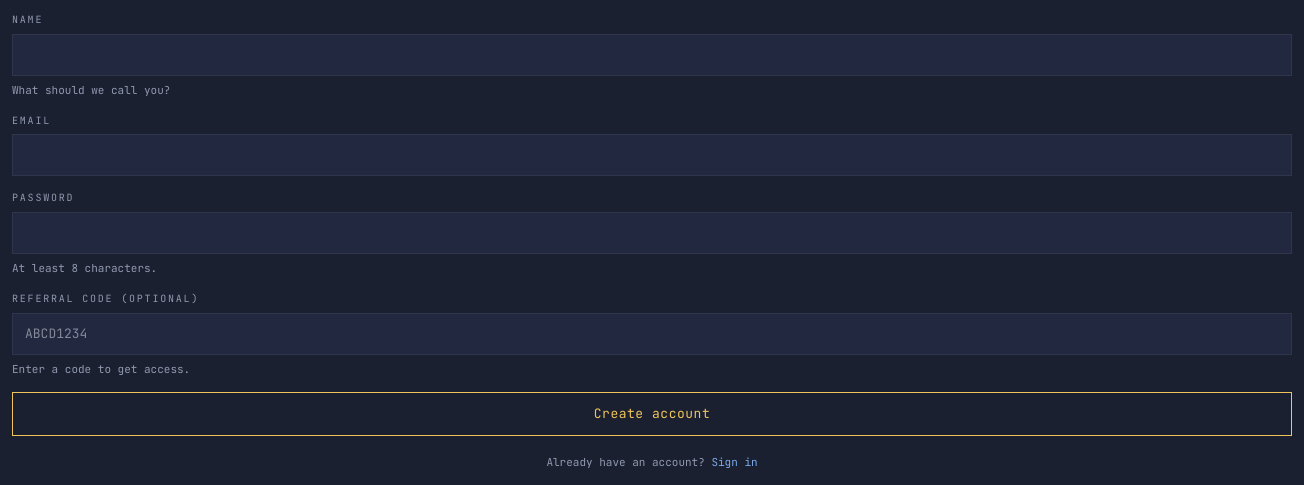
SignUpForm › rejects passwords shorter than 8 characters
Type "Ada Lovelace" into the field labelled "Name" at (652, 55), box [12,34,1292,76]
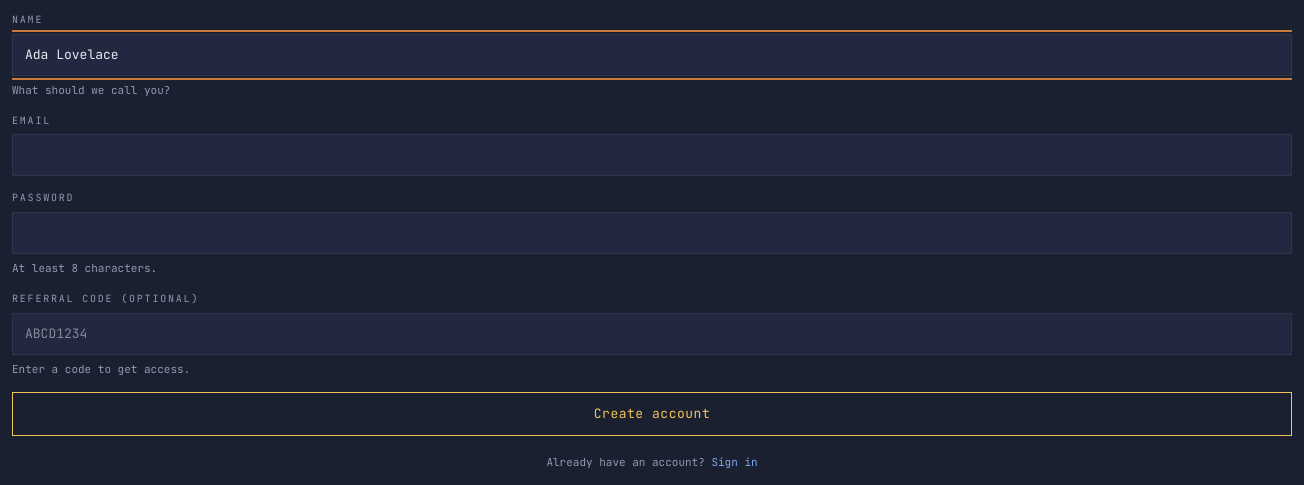
Type "a@b.c" into the field labelled "Email" at (652, 155), box [12,134,1292,176]
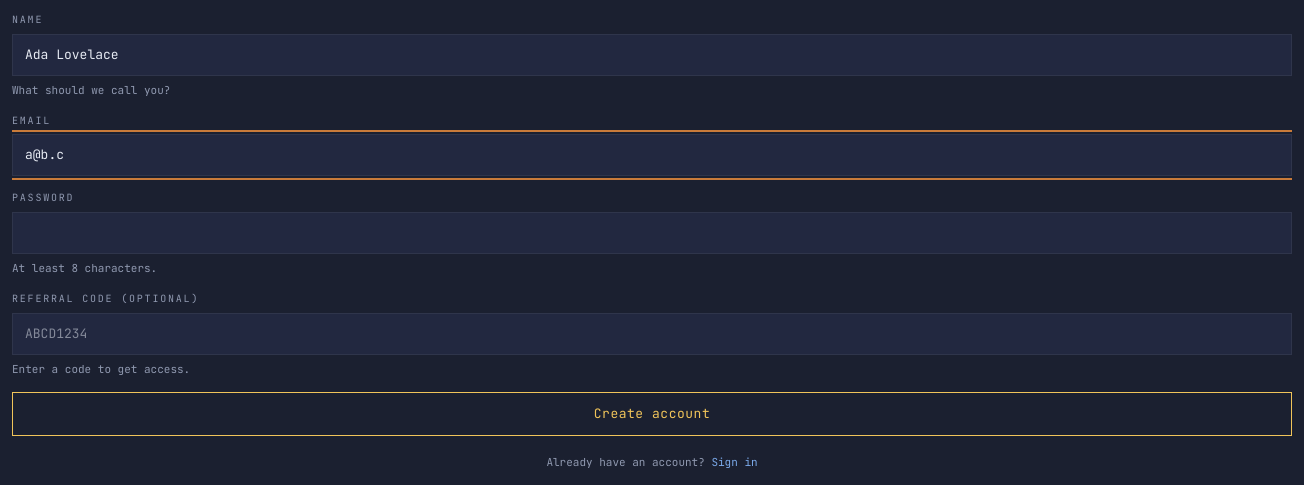
Type "short" into the password field labelled "Password" at (652, 233), box [12,212,1292,254]
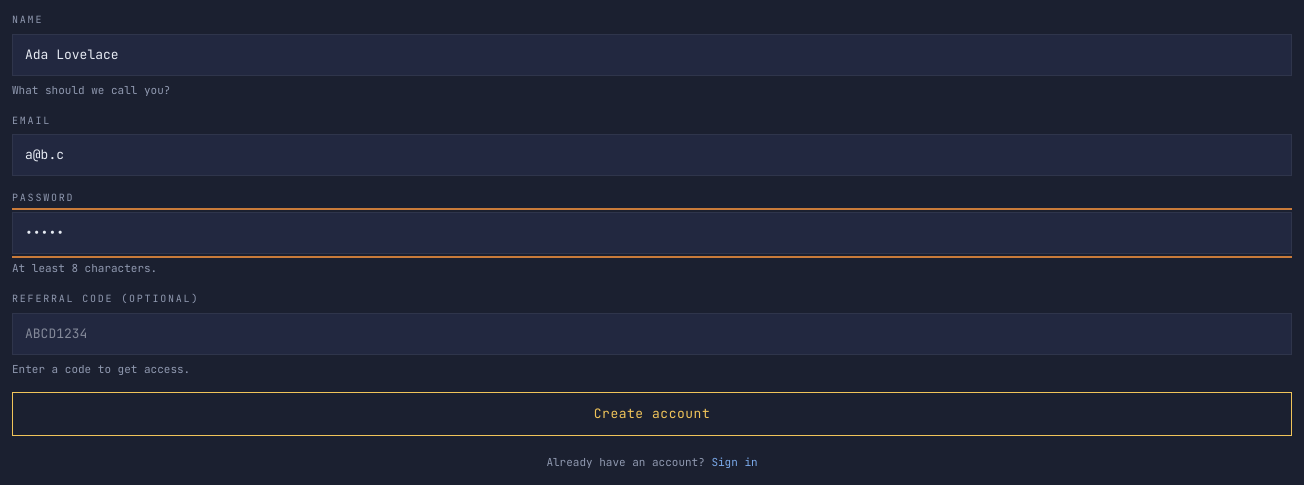
Click the button "Create account" at (652, 414), box [12,392,1292,436]
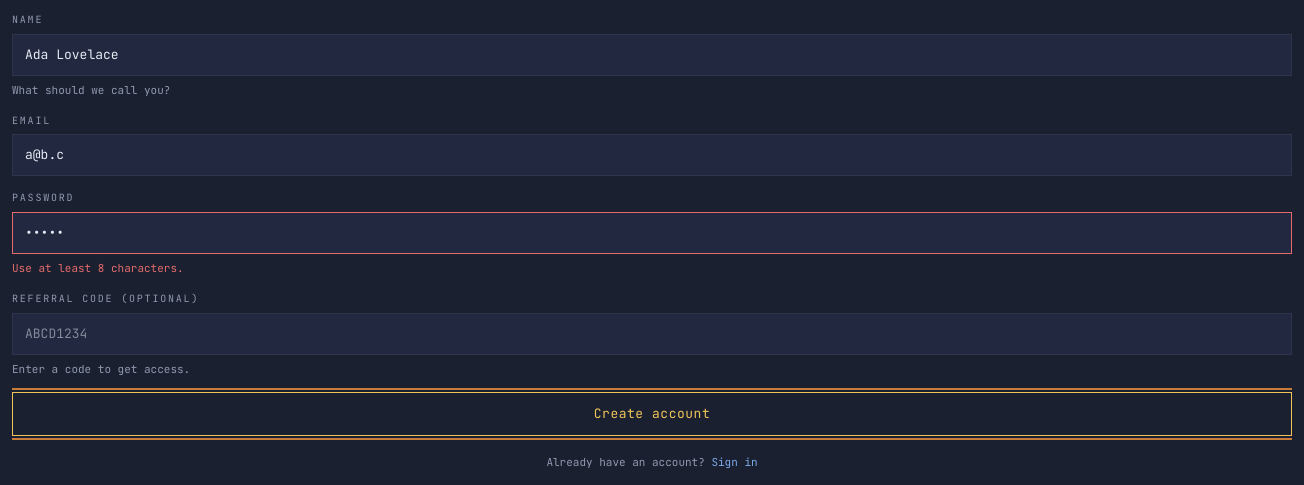
Expected: the text "Use at least 8 characters." is shown, [12,261,184,275]
